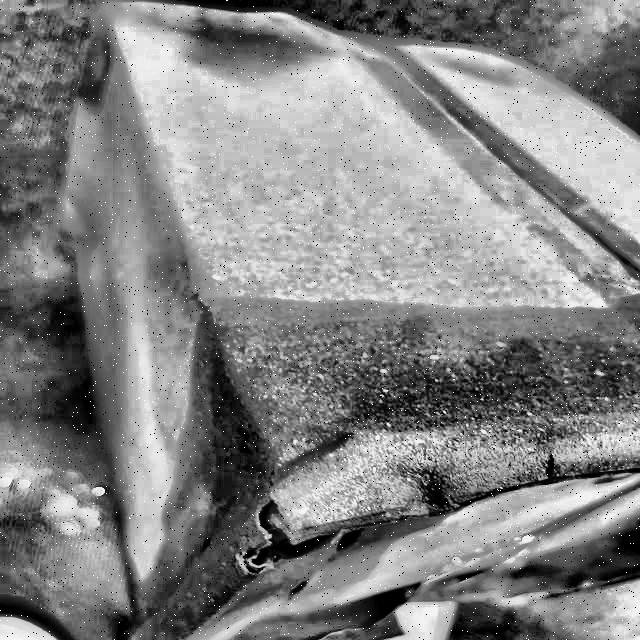box: (60, 3, 640, 640)
wet: (98, 303, 626, 639)
